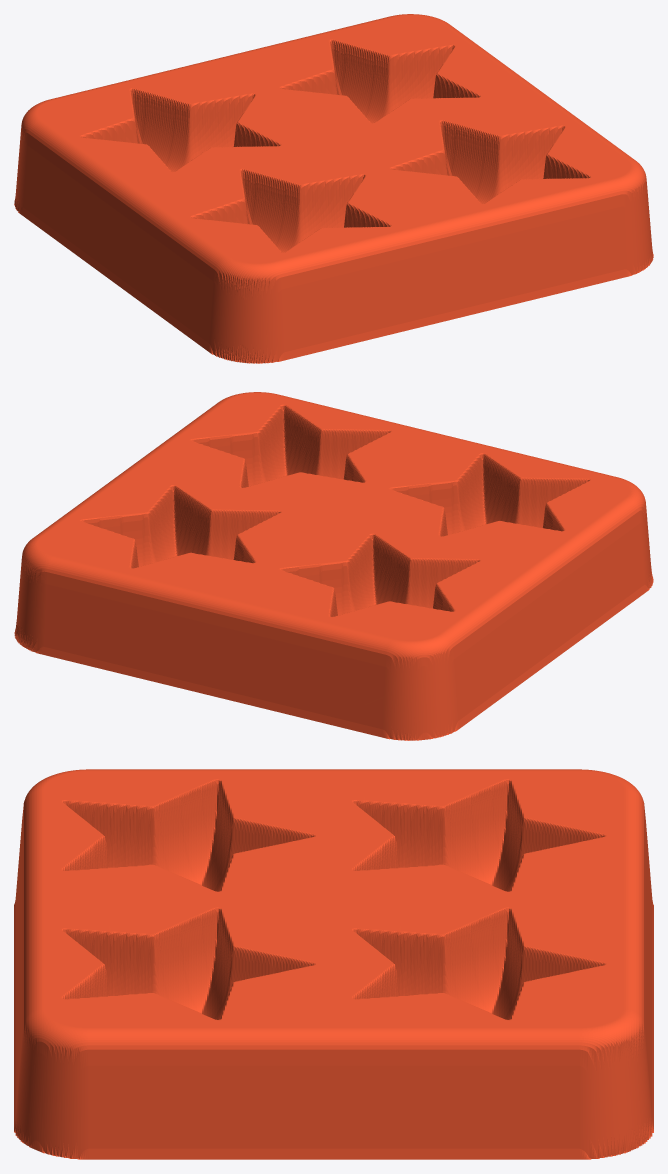
Rendered from mold.glb.
3 renders of one model, top to bottom at view 1: azimuth 30°, elevation 25°; view 2: azimuth 150°, elevation 25°; view 3: azimuth 270°, elevation 25°, orthographic. The views are drawn at different scales.
Parts seen in each view (by area): view 1: geometry_0; view 2: geometry_0; view 3: geometry_0.
Part boxes in pixels (bbox=[...]): geometry_0: bbox=[14, 14, 653, 363]; geometry_0: bbox=[14, 392, 653, 740]; geometry_0: bbox=[14, 769, 653, 1159].
Bounding box in the file's own units: 0.0808 × 0.0159 × 0.0776.
